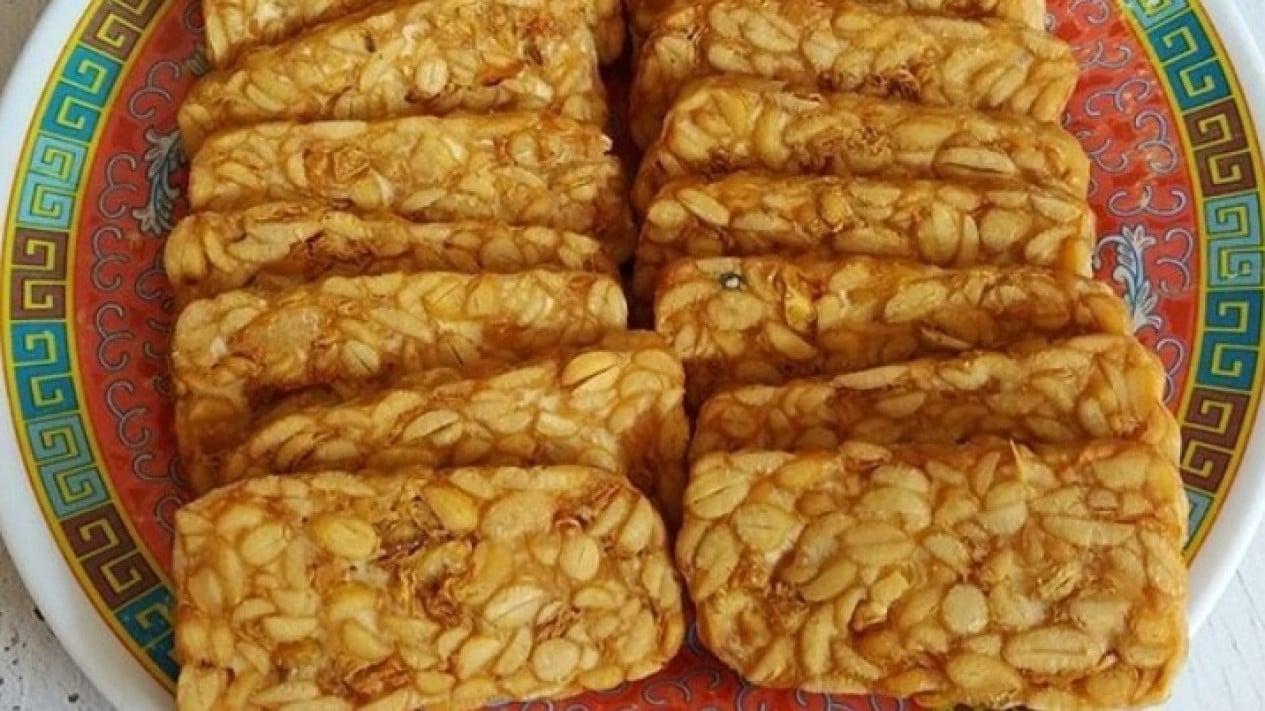kacang_legume: (236, 0, 601, 673), (685, 10, 1054, 652)
